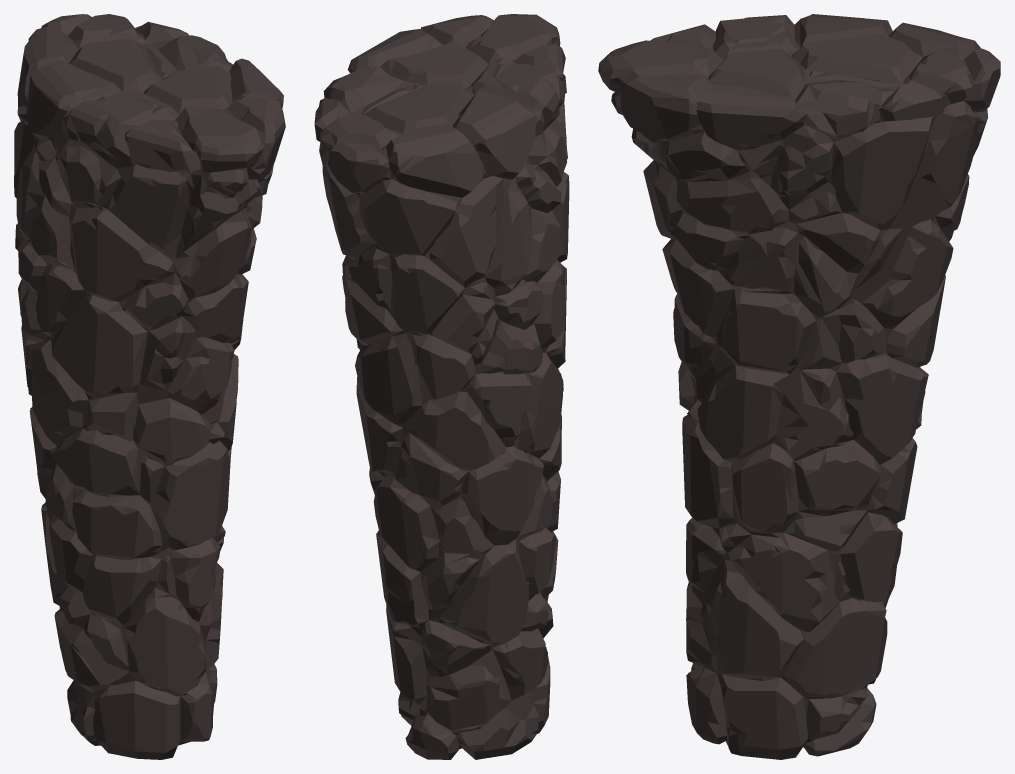
Rendered from StoneBig09.fbx.
3 renders of one model, left to right at view 1: azimuth 30°, elevation 25°; view 2: azimuth 150°, elevation 25°; view 3: azimuth 270°, elevation 25°, orthographic. The views are drawn at different scales.
Parts seen in each view (by area): view 1: Cylinder.011; view 2: Cylinder.011; view 3: Cylinder.011.
Part boxes in pixels (x1=…): Cylinder.011: x1=14, y1=14, x2=285, y2=759; Cylinder.011: x1=314, y1=14, x2=569, y2=759; Cylinder.011: x1=598, y1=14, x2=1000, y2=759.
Size of the model in its own units: 148 by 440 by 231.
